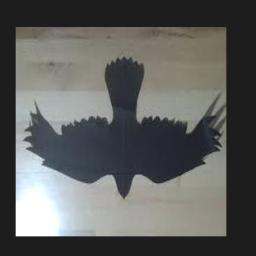Crow: (24, 57, 221, 200)
